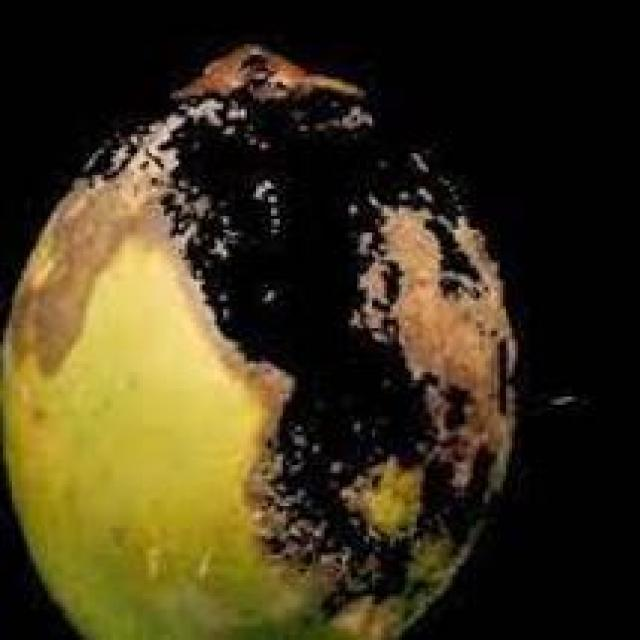damaged: (0, 44, 515, 637)
